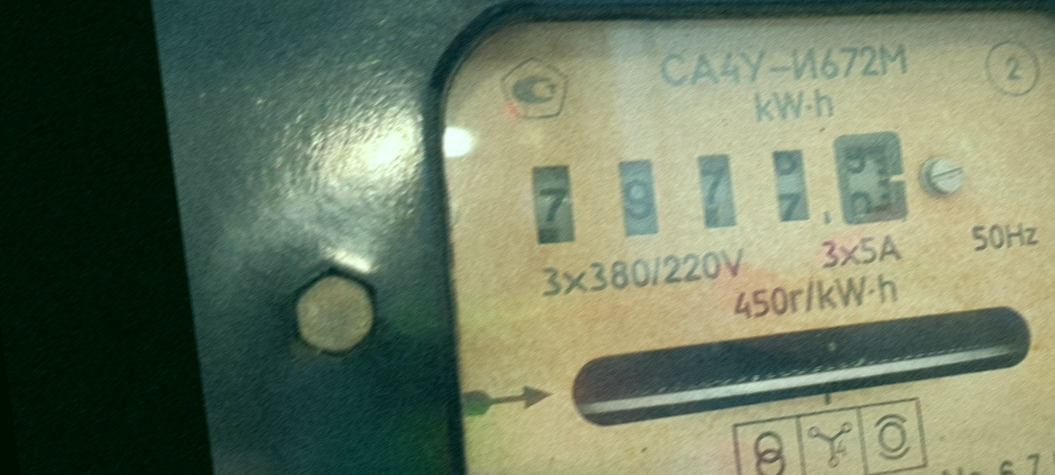0: (847, 186, 874, 218)
7: (533, 181, 572, 230), (773, 183, 808, 228), (697, 164, 731, 208)
9: (619, 174, 656, 225), (840, 143, 874, 178)
screen: (513, 105, 927, 283)
